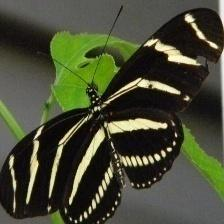butterfly: (1, 8, 224, 224)
